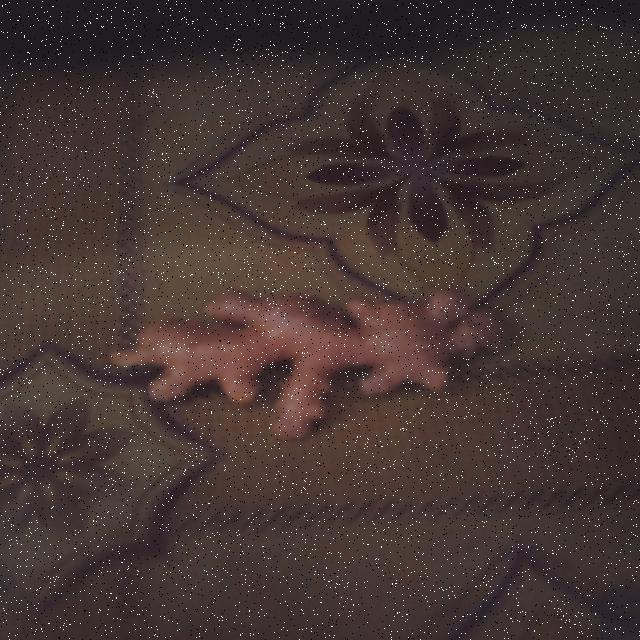ginger: (94, 278, 546, 447)
